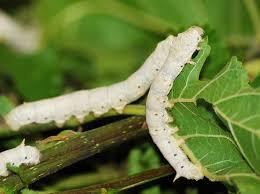fallarmy_worm: (4, 33, 173, 114), (144, 23, 216, 184), (1, 138, 50, 177)
